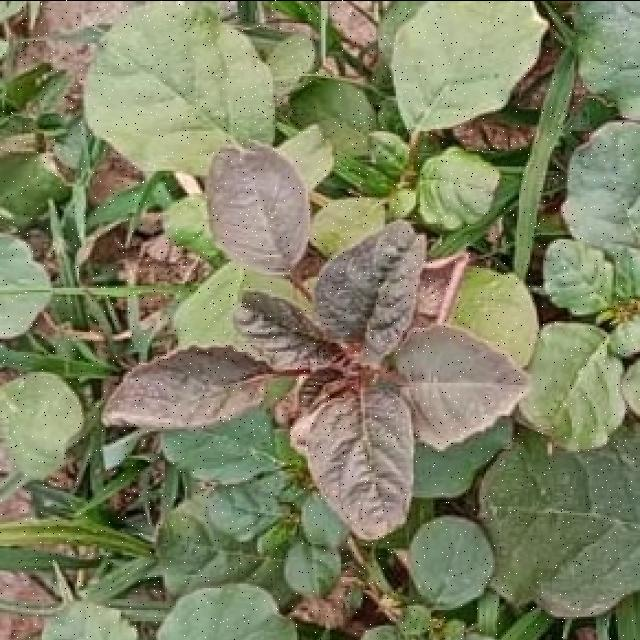plant: (104, 133, 538, 538)
